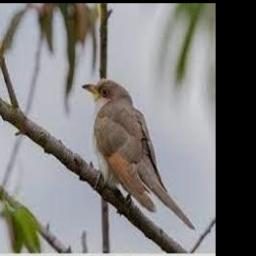Cuckoo: (82, 79, 196, 231)
